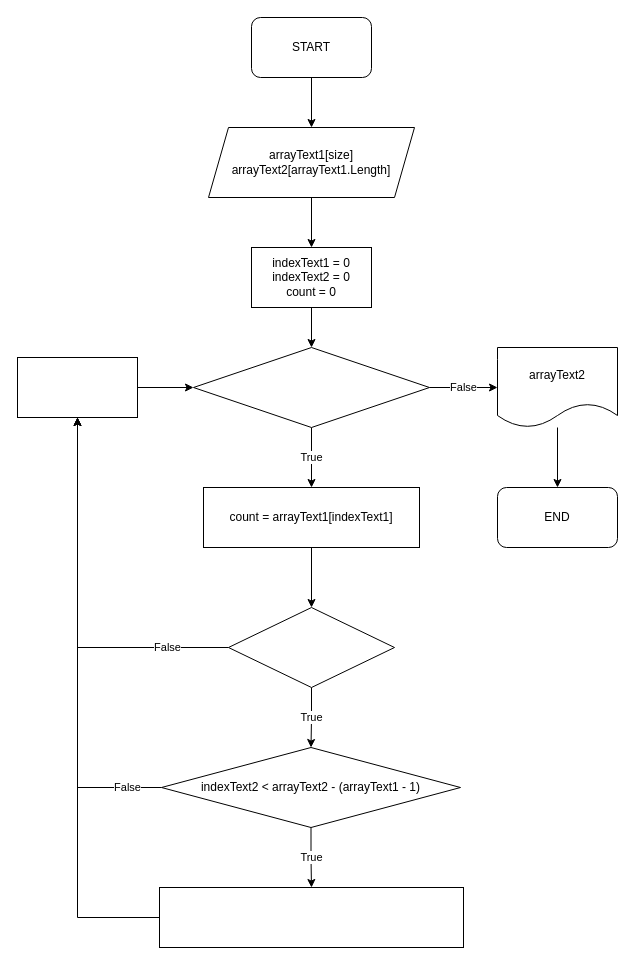
The diagram is 635 pixels wide and 965 high, and some of its shapes have lost their labels. Each missing label, with the centre of its shape:
"arrayText2[indexText2] = arrayText1[indexText1]" belongs at point (311, 917).
"count <= 3" belongs at point (311, 647).
"indexText1 ++ indexText2 ++" belongs at point (77, 387).
"indexText1 < size" belongs at point (311, 387).
